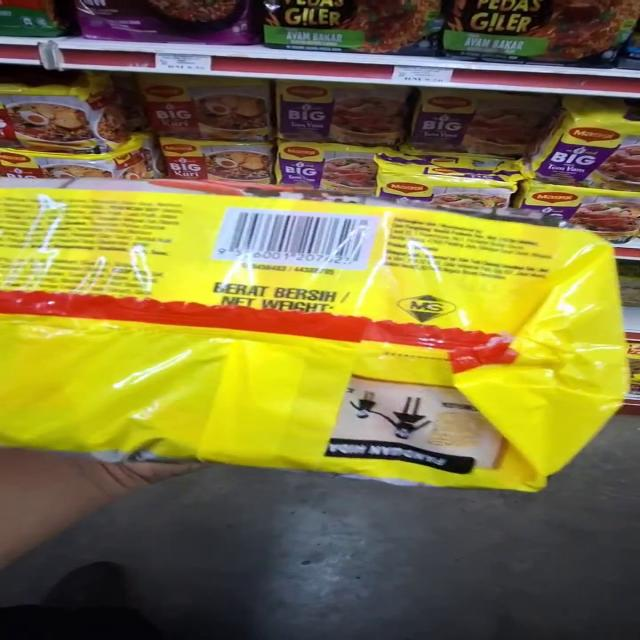Maggi: (3, 189, 613, 496)
